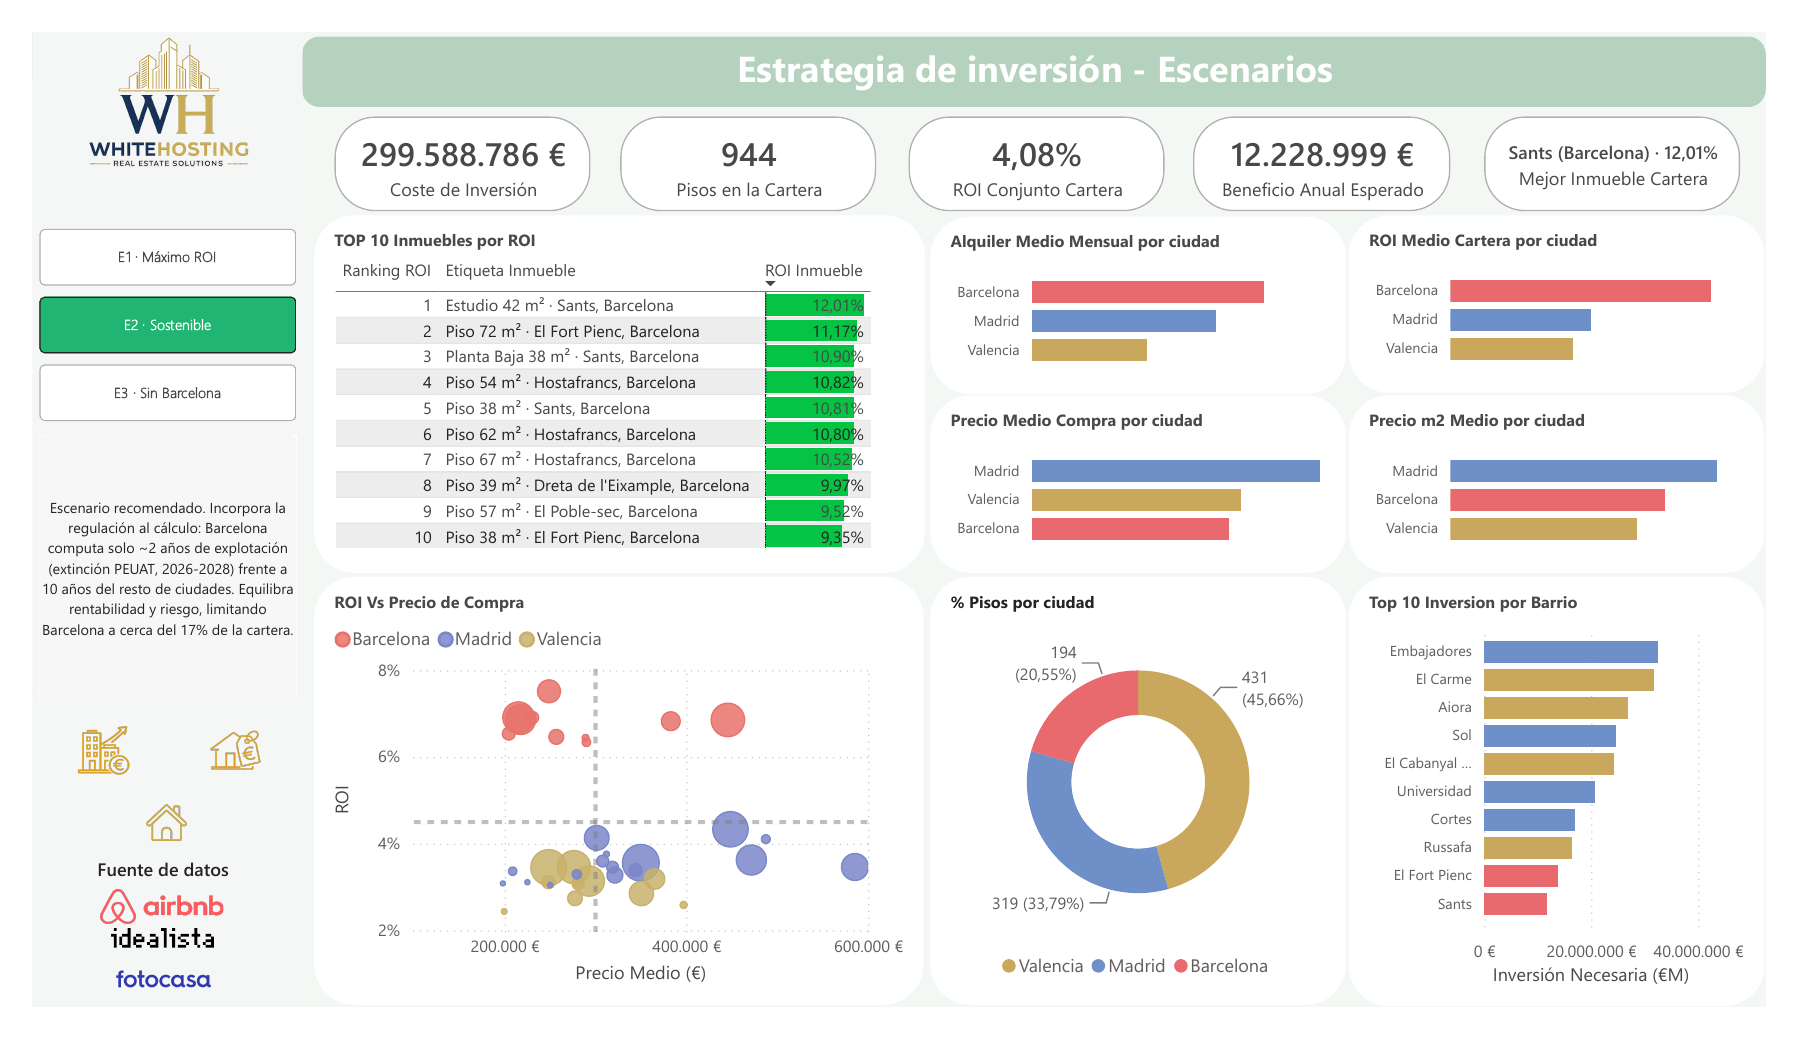

The dashboard page shown, as its layout file describes it:
{"tool":"powerbi","page":{"name":"Inversión","canvas":[1280,720],"ordinal":3},"visuals":[{"type":"shape","box":[199.5,2.7,1080.9,52.6],"z":0},{"type":"shape","box":[0,0,200.4,720],"z":1000},{"type":"image","box":[100.5,496.5,93.4,70],"z":2000},{"type":"image","box":[0,496.5,100.5,70],"z":3000},{"type":"textbox","box":[43.1,604.2,114,28.7],"z":4000},{"type":"image","box":[51.2,537.8,96.1,95.2],"z":5000},{"type":"image","box":[50.3,632.9,90.7,25.1],"z":6000},{"type":"image","box":[37.7,658.1,116.7,21.5],"z":7000},{"type":"image","box":[28.7,679.6,132.9,38.6],"z":8000},{"type":"textbox","box":[200.4,2.7,1080.3,58.9],"z":9000},{"type":"cardVisual","fields":{"Data":["cartera_inversion_300M_pbi.ROI Conjunto Cartera"]},"box":[641.9,56.7,199.3,79.9],"z":10000},{"type":"cardVisual","fields":{"Data":["cartera_inversion_300M_pbi.Beneficio Anual Esperado Cartera"]},"box":[852,56.7,200.2,79.9],"z":11000},{"type":"cardVisual","fields":{"Data":["cartera_inversion_300M_pbi.Nº Pisos Cartera"]},"box":[429.1,56.7,199.3,79.9],"z":12000},{"type":"cardVisual","fields":{"Data":["cartera_inversion_300M_pbi.Mejor Inmueble Cartera"]},"box":[1066.5,56.7,199.3,79.9],"z":13000},{"type":"cardVisual","fields":{"Data":["cartera_inversion_300M_pbi.Inversión Necesaria Cartera"]},"box":[218.2,56.7,199.3,79.9],"z":14000},{"type":"clusteredBarChart","fields":{"Category":["cartera_por_escenario_pbi.ciudad"],"Y":["cartera_inversion_300M_pbi.ROI Medio Cartera"]},"box":[972.3,134.7,307,131.1],"z":15000},{"type":"clusteredBarChart","fields":{"Category":["cartera_por_escenario_pbi.ciudad"],"Y":["cartera_inversion_300M_pbi.Alquiler Medio Mensual"]},"box":[662.5,135.7,307,131],"z":16000},{"type":"clusteredBarChart","fields":{"Category":["cartera_por_escenario_pbi.ciudad"],"Y":["cartera_inversion_300M_pbi.Precio Medio Compra"]},"box":[662.5,267.5,307,131],"z":17000},{"type":"tableEx","title":"TOP 10 Inmuebles por ROI","fields":{"Values":["cartera_inversion_300M_pbi.Ranking ROI","cartera_por_escenario_pbi.Etiqueta Inmueble","cartera_inversion_300M_pbi.ROI Inmueble"]},"box":[208.3,134.7,450.7,264],"z":18000},{"type":"clusteredBarChart","fields":{"Category":["cartera_por_escenario_pbi.ciudad"],"Y":["cartera_inversion_300M_pbi.Precio m2 Medio"]},"box":[972.3,267.5,307,131],"z":19000},{"type":"scatterChart","title":"ROI Vs Precio de Compra","fields":{"X":["cartera_inversion_300M_pbi.Precio Medio Compra"],"Y":["cartera_inversion_300M_pbi.ROI Conjunto Cartera"],"Size":["cartera_inversion_300M_pbi.Beneficio Anual Esperado Cartera"],"Series":["cartera_por_escenario_pbi.ciudad"],"Category":["cartera_por_escenario_pbi.barrio_oficial"]},"box":[208.3,402.2,449.8,316],"z":20000},{"type":"clusteredBarChart","title":"Top 10 Inversion por Barrio","fields":{"Category":["cartera_por_escenario_pbi.barrio_oficial"],"Y":["cartera_inversion_300M_pbi.Inversión Necesaria Cartera"]},"box":[972.3,402.2,307,316.9],"z":21000},{"type":"image","box":[17.1,1.8,167,99.7],"z":22000},{"type":"advancedSlicerVisual","fields":{"Values":["cartera_por_escenario_pbi.Nombre Escenario"]},"box":[0,139.7,200.4,152.7],"z":23000},{"type":"donutChart","title":"% Pisos por ciudad","fields":{"Category":["cartera_por_escenario_pbi.ciudad"],"Y":["cartera_inversion_300M_pbi.Nº Pisos Cartera"]},"box":[662.5,402.2,307,316],"z":24000},{"type":"cardVisual","fields":{"Data":["cartera_inversion_300M_pbi.Descripción Escenario"]},"box":[0,292,199.7,204.3],"z":25000}]}

Visuals, with their boxes in screenshot pixels (x1, y1, x2, y2), scaled from the page's 1280x720 canvas onto the 1799x1040 screenshot:
shape: detection(280, 4, 1798, 80)
shape: detection(0, 0, 282, 1039)
image: detection(141, 717, 273, 818)
image: detection(0, 717, 141, 818)
textbox: detection(61, 873, 221, 914)
image: detection(72, 777, 207, 914)
image: detection(71, 914, 198, 950)
image: detection(53, 951, 217, 982)
image: detection(40, 982, 227, 1037)
textbox: detection(282, 4, 1798, 89)
cardVisual - cartera_inversion_300M_pbi.ROI Conjunto Cartera: detection(902, 82, 1182, 197)
cardVisual - cartera_inversion_300M_pbi.Beneficio Anual Esperado Cartera: detection(1197, 82, 1479, 197)
cardVisual - cartera_inversion_300M_pbi.Nº Pisos Cartera: detection(603, 82, 883, 197)
cardVisual - cartera_inversion_300M_pbi.Mejor Inmueble Cartera: detection(1499, 82, 1779, 197)
cardVisual - cartera_inversion_300M_pbi.Inversión Necesaria Cartera: detection(307, 82, 587, 197)
clusteredBarChart - cartera_por_escenario_pbi.ciudad x cartera_inversion_300M_pbi.ROI Medio Cartera: detection(1367, 195, 1798, 384)
clusteredBarChart - cartera_por_escenario_pbi.ciudad x cartera_inversion_300M_pbi.Alquiler Medio Mensual: detection(931, 196, 1363, 385)
clusteredBarChart - cartera_por_escenario_pbi.ciudad x cartera_inversion_300M_pbi.Precio Medio Compra: detection(931, 386, 1363, 576)
"TOP 10 Inmuebles por ROI" tableEx: detection(293, 195, 926, 576)
clusteredBarChart - cartera_por_escenario_pbi.ciudad x cartera_inversion_300M_pbi.Precio m2 Medio: detection(1367, 386, 1798, 576)
"ROI Vs Precio de Compra" scatterChart: detection(293, 581, 925, 1037)
"Top 10 Inversion por Barrio" clusteredBarChart: detection(1367, 581, 1798, 1039)
image: detection(24, 3, 259, 147)
advancedSlicerVisual - cartera_por_escenario_pbi.Nombre Escenario: detection(0, 202, 282, 422)
"% Pisos por ciudad" donutChart: detection(931, 581, 1363, 1037)
cardVisual - cartera_inversion_300M_pbi.Descripción Escenario: detection(0, 422, 281, 717)
